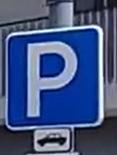Estacionamento autorizado: (8, 21, 104, 132)
